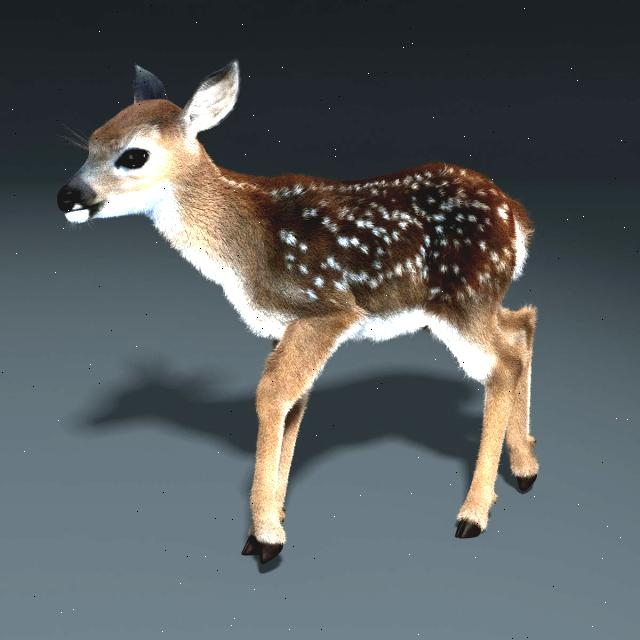deer: (49, 56, 284, 262)
